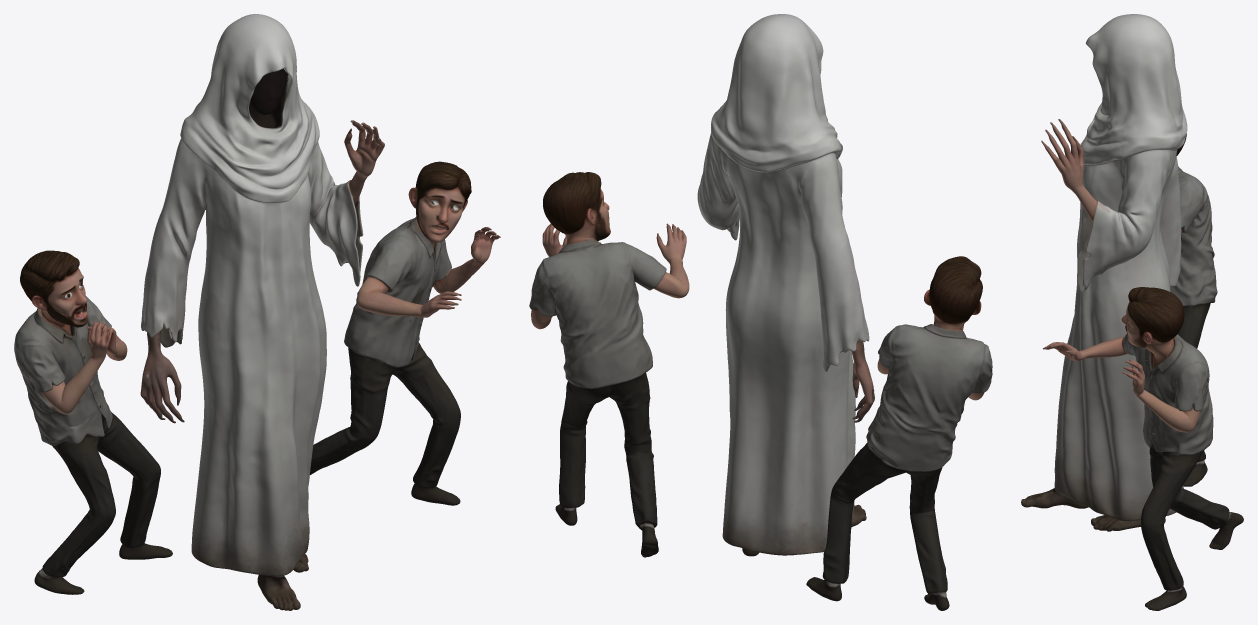
The model's file is 25-la-chupa-optimized.glb.
The picture shows the model from 3 angles, left to right: view 1: azimuth 30°, elevation 25°; view 2: azimuth 150°, elevation 25°; view 3: azimuth 270°, elevation 25°; orthographic projection. The views are drawn at different scales.
Parts seen in each view (by area): view 1: tripo_node_c695f930-86d8-49a7-8fe3-9b509c4f7d5a; view 2: tripo_node_c695f930-86d8-49a7-8fe3-9b509c4f7d5a; view 3: tripo_node_c695f930-86d8-49a7-8fe3-9b509c4f7d5a.
Boxes of the visible parts, x1,y1,x2,y2 form: tripo_node_c695f930-86d8-49a7-8fe3-9b509c4f7d5a: (14,14,500,610); tripo_node_c695f930-86d8-49a7-8fe3-9b509c4f7d5a: (529,14,992,610); tripo_node_c695f930-86d8-49a7-8fe3-9b509c4f7d5a: (1021,14,1243,610).
Bounding box in the file's own units: 0.8946 × 1 × 0.4035.
Materials: 1 (1 with a texture image).
